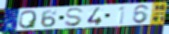1: (118, 6, 126, 24)
4: (86, 6, 104, 27)
6: (132, 4, 150, 25), (40, 9, 58, 28)
Q: (17, 9, 38, 30)
S: (63, 7, 85, 28)
